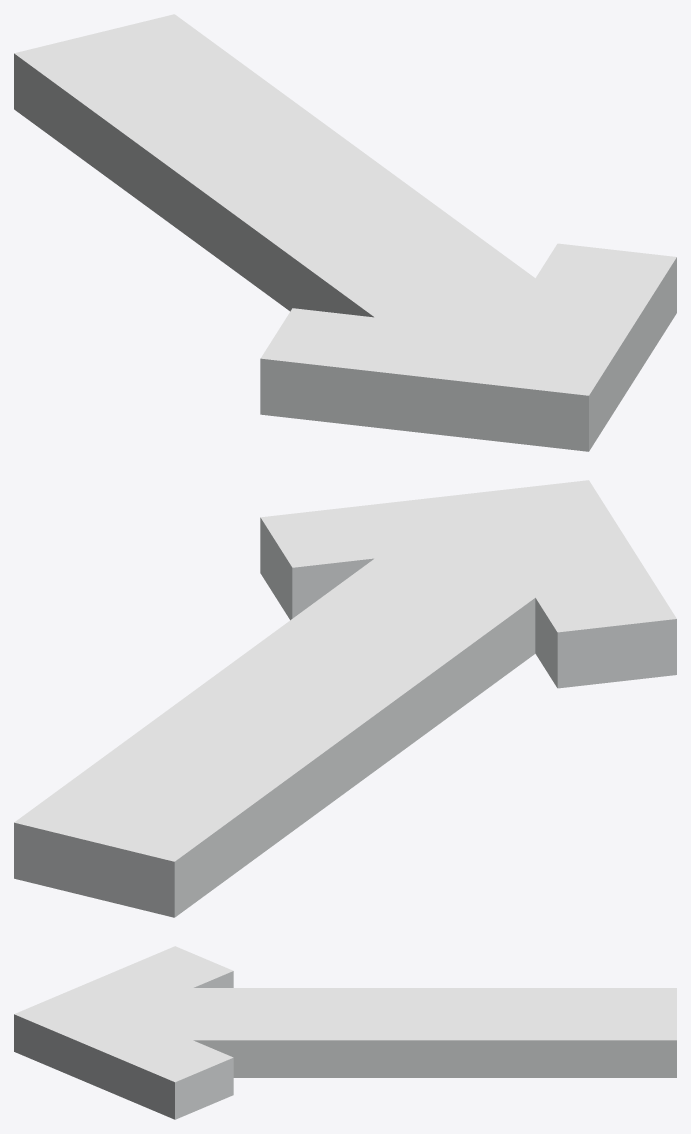
File: Arrow White.glb
3 renders of one model, top to bottom at view 1: azimuth 30°, elevation 25°; view 2: azimuth 150°, elevation 25°; view 3: azimuth 270°, elevation 25°, orthographic. The views are drawn at different scales.
Parts seen in each view (by area): view 1: cube; view 2: cube; view 3: cube.
Part boxes in pixels (x1,y1,x2,y2): cube: (14, 14, 676, 451); cube: (14, 480, 676, 917); cube: (14, 946, 676, 1119).
Size of the model in its own units: 0.9723 by 0.125 by 2.
Materials: 1 (1 with a texture image).
